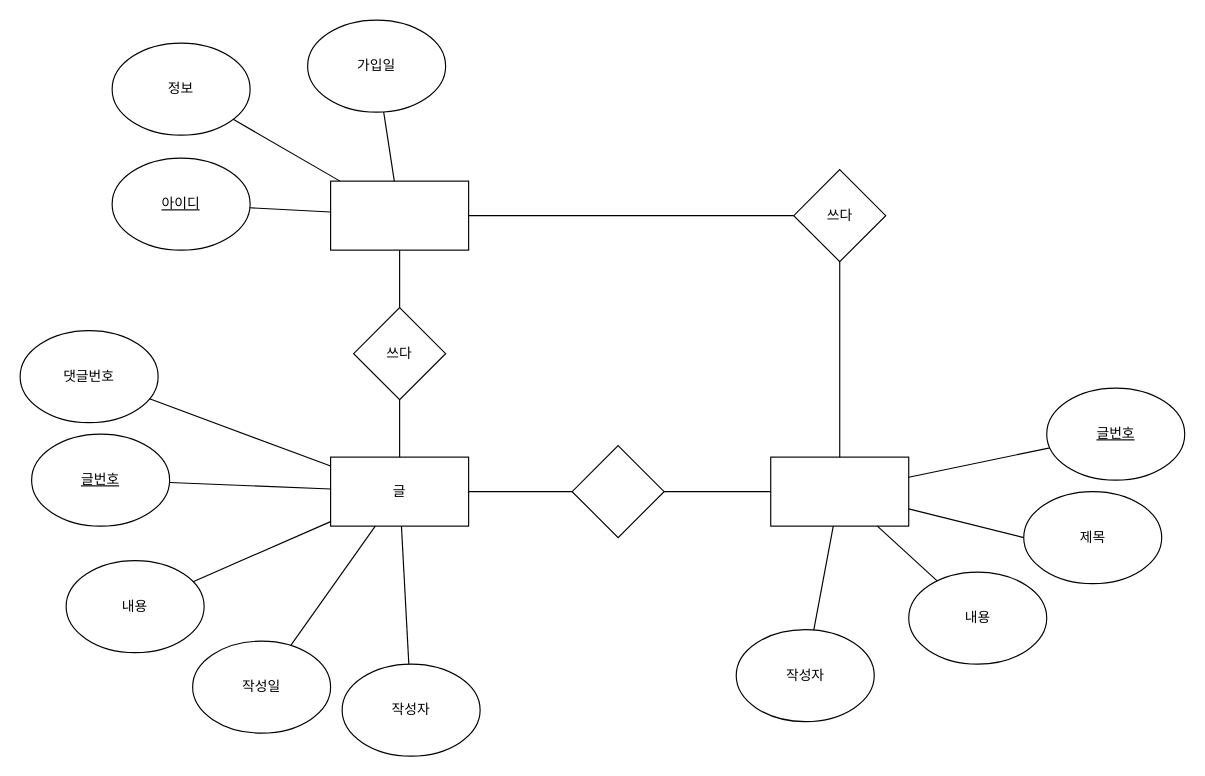
The diagram is 1205 pixels wide and 776 high, and some of its shapes have lost their labels. Here are the shapes that lost their labels. From the top down, the box of each, then its label:
(329, 180, 469, 250): 회원
(571, 444, 664, 538): 포함
(770, 456, 909, 526): 댓글
